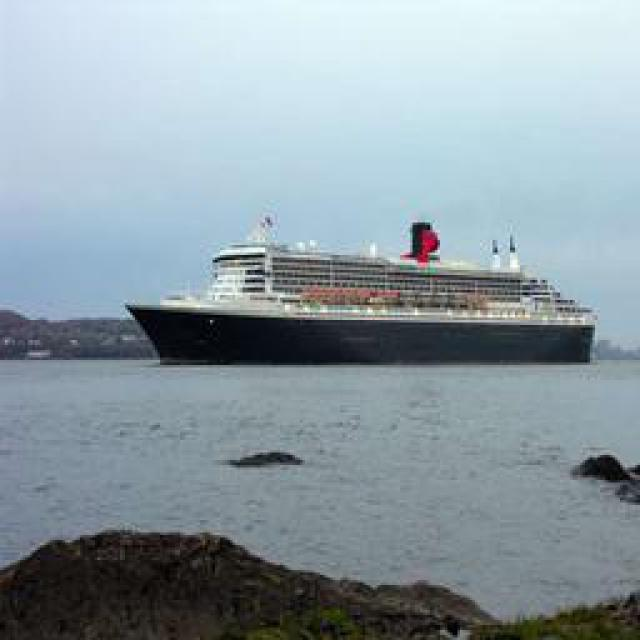Ship: (126, 206, 604, 366)
